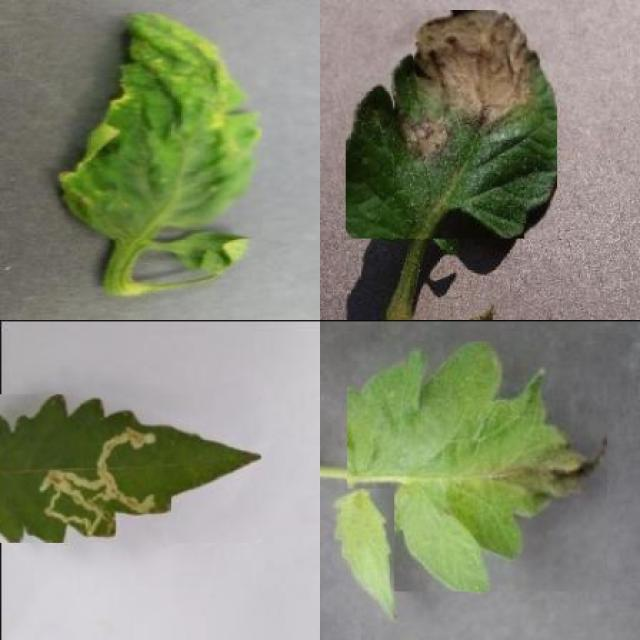Healthy: (332, 488, 395, 622)
Late Blight: (347, 342, 607, 592), (346, 11, 557, 239)
Leaf Miner: (0, 393, 261, 543)
Yellow Leaf Curl Virus: (57, 14, 262, 239)
